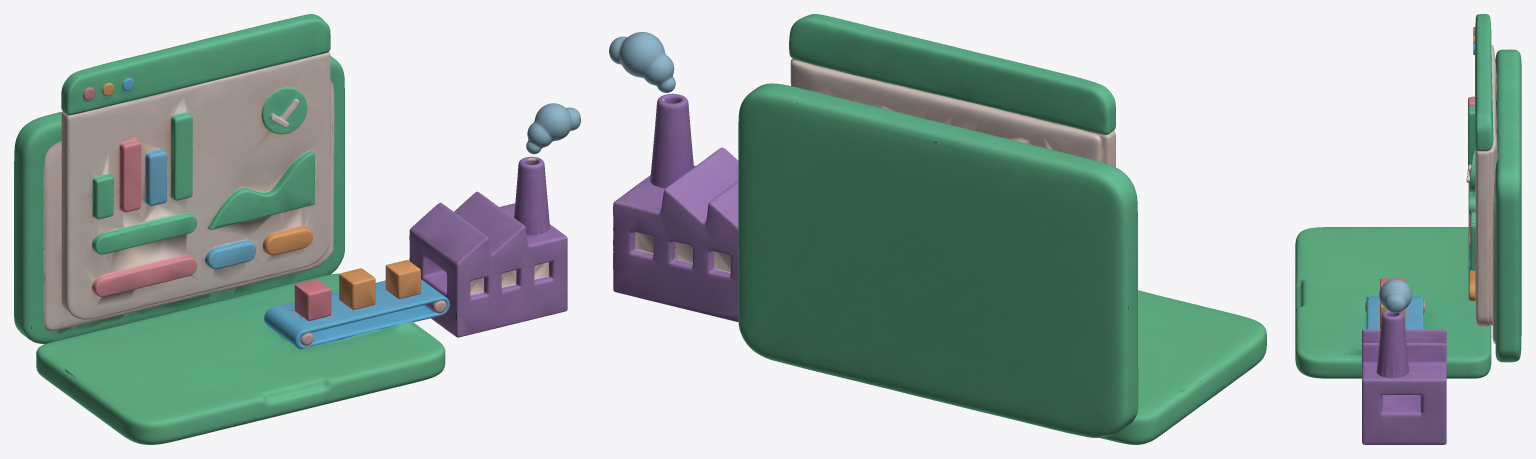
File: woximityV2.glb
3 views of the same model, side by side, from view 1: azimuth 30°, elevation 25°; view 2: azimuth 150°, elevation 25°; view 3: azimuth 270°, elevation 25° (orthographic). The views are drawn at different scales.
Visible parts, largest first — view 1: geometry_0; view 2: geometry_0; view 3: geometry_0.
Part boxes in pixels (x1=…): geometry_0: x1=14, y1=14, x2=580, y2=444; geometry_0: x1=609, y1=14, x2=1266, y2=444; geometry_0: x1=1295, y1=14, x2=1521, y2=444.
Bounding box in the file's own units: 1.9 × 1.07 × 0.863.
Materials: 1 (1 with a texture image).
